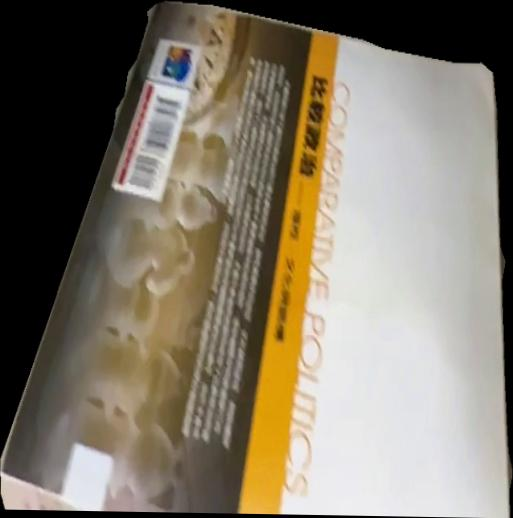flat: (1, 1, 513, 518)
